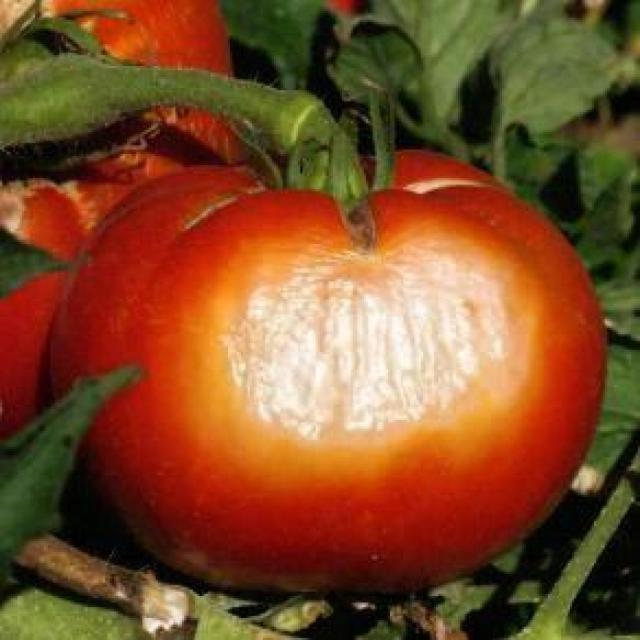Sunscald Fruit: (126, 147, 363, 307)
